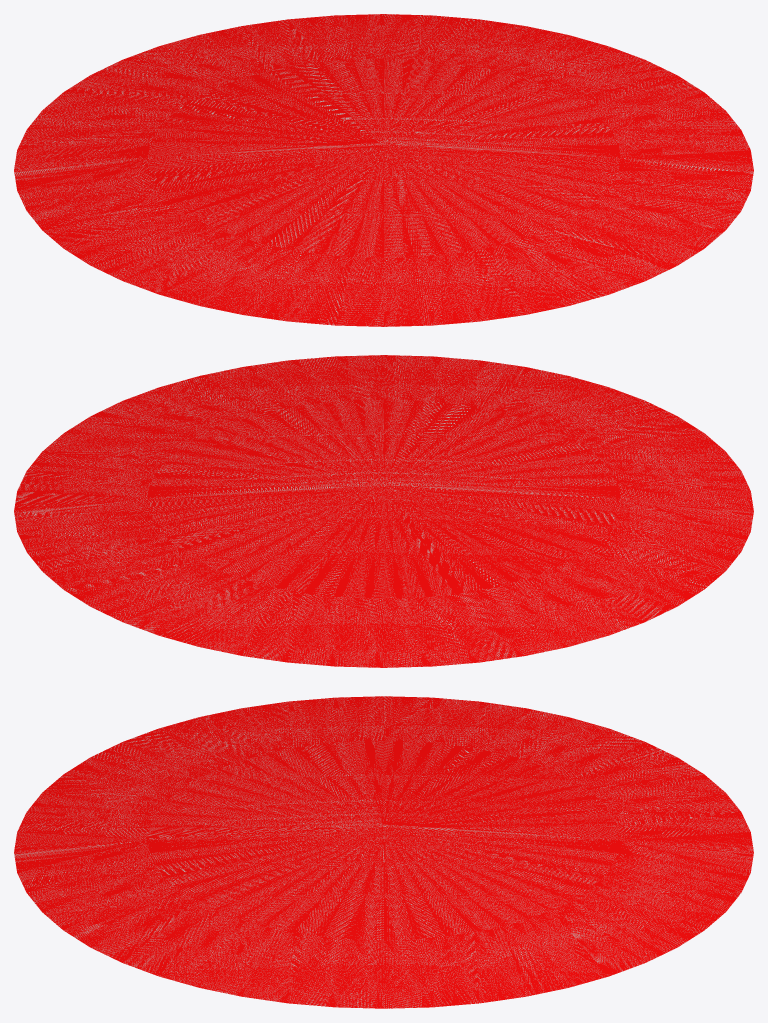
File: original-4.obj
The picture shows the model from 3 angles, top to bottom: view 1: azimuth 30°, elevation 25°; view 2: azimuth 150°, elevation 25°; view 3: azimuth 270°, elevation 25°; orthographic projection.
Visible parts, largest first — view 1: #ID22; view 2: #ID22; view 3: #ID22.
Part boxes in pixels (left/top/right/bottom): #ID22: left=14, top=14, right=753, bottom=326; #ID22: left=14, top=355, right=753, bottom=667; #ID22: left=14, top=696, right=753, bottom=1008.
Bounding box in the file's own units: 0.21 × 0.00767 × 0.2102.
